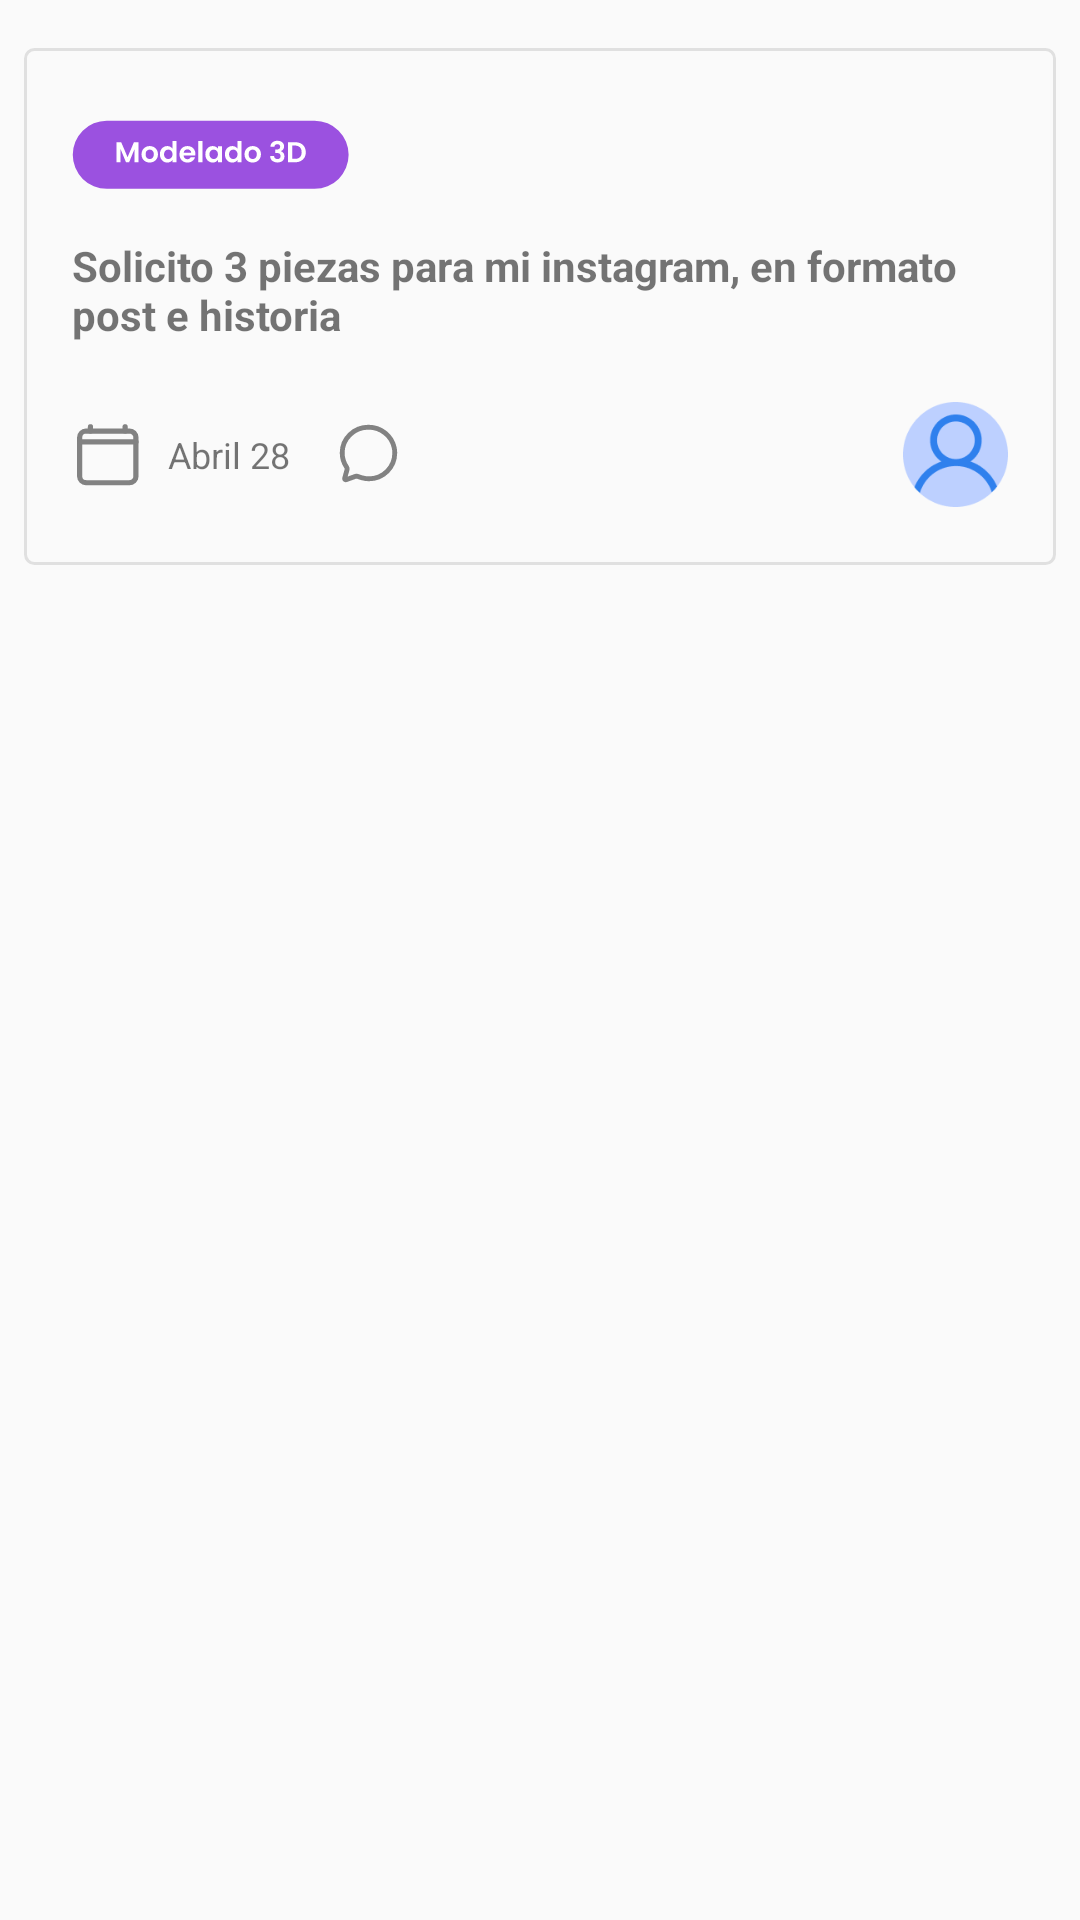

Named icons in this screenshot (1080x1920) and their bounding boxes, detection(x1, y1, x2, y2):
calendar clear: detection(77, 424, 139, 486)
coment: detection(339, 424, 398, 482)
